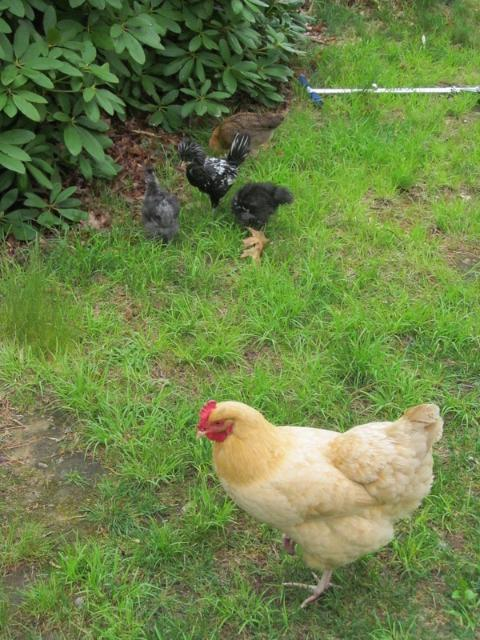Chicken: (197, 402, 443, 605)
